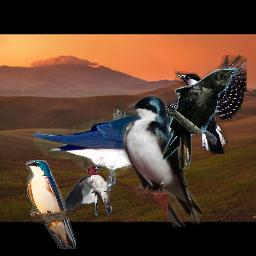Crow: (162, 68, 238, 170)
Swallow: (31, 108, 180, 182), (121, 94, 203, 227), (26, 160, 76, 249)
Woodpecker: (113, 55, 247, 154), (64, 164, 116, 216)
